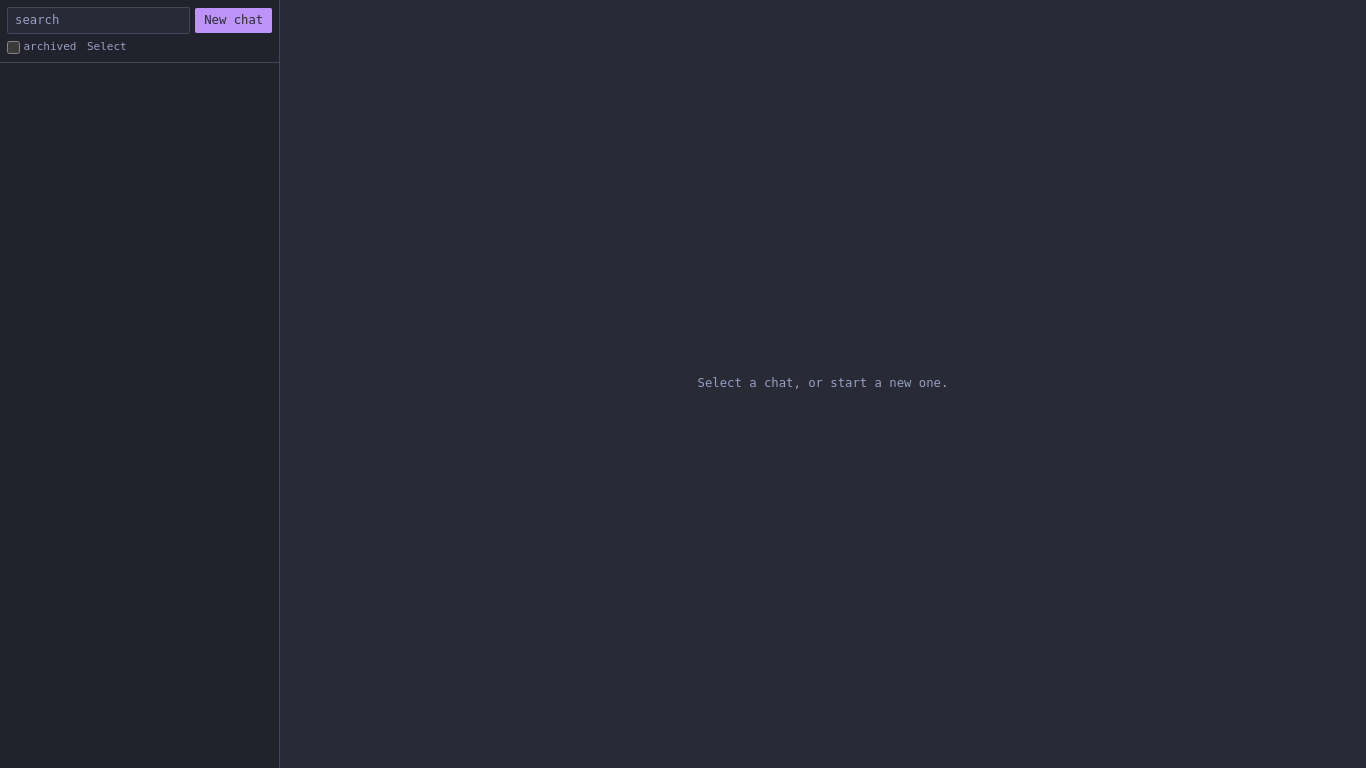
Test: New chat form (inline in the main panel) › says when no client is connected, and None stays available
Step 1. Click the button "New chat" → [234, 20], box [196,8,272,32]
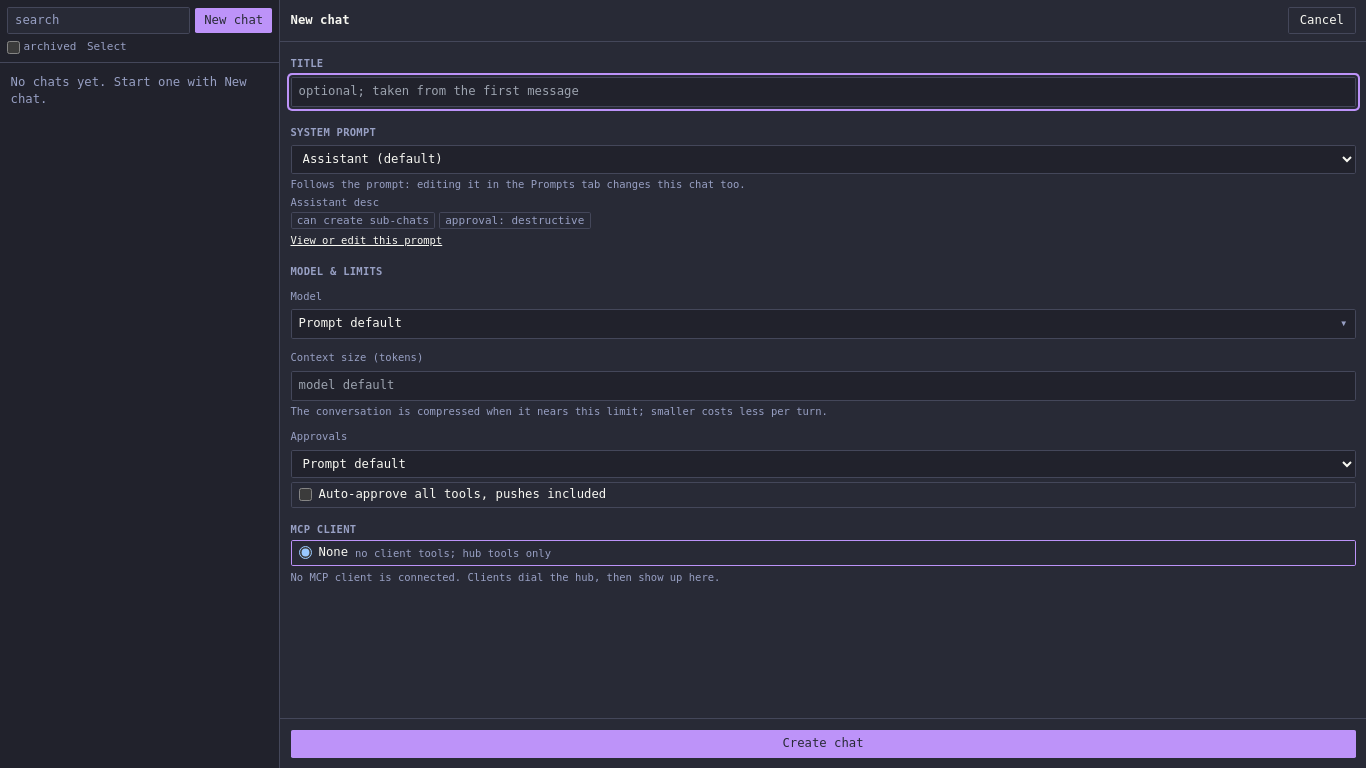
Check: the heading "New chat" is shown, box [290,12,350,26]
Check: the text "No MCP client is connected" is shown, box [290,570,720,582]
Check: the radio button labelled "None no client tools; hub tools only" is checked, box [298,546,312,559]
